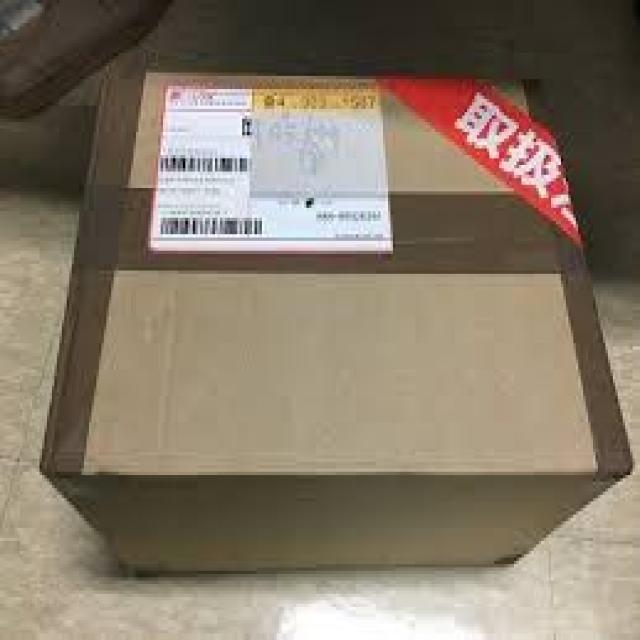box: (39, 72, 633, 571)
